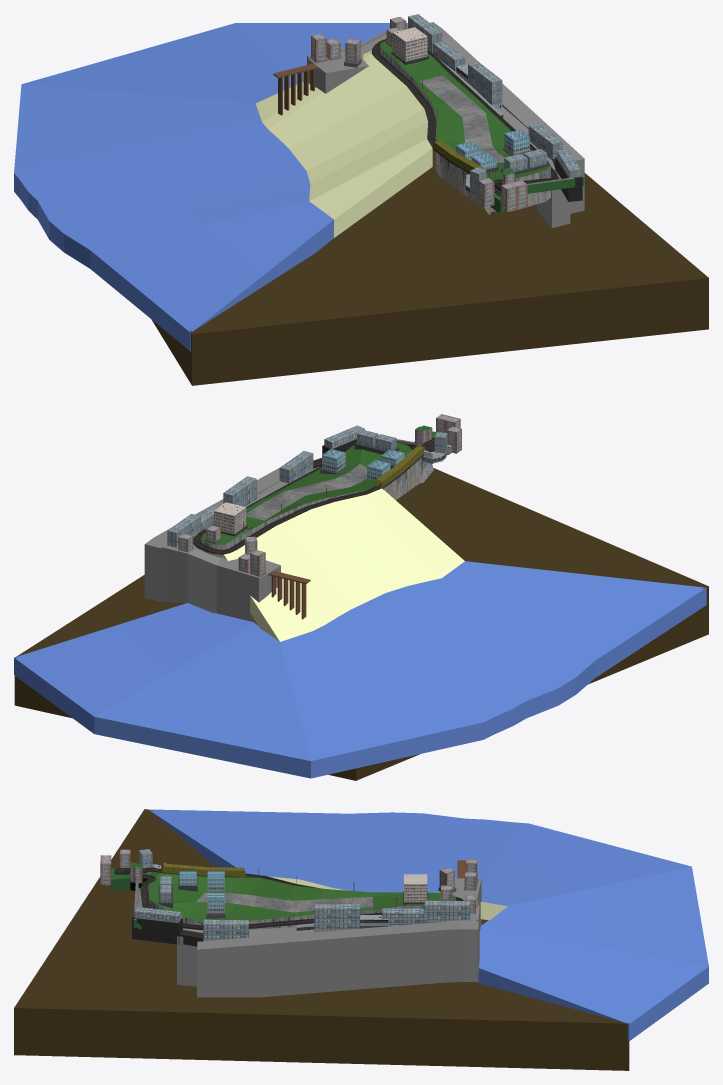
Rendered from roadagetrack.fbx.
The picture shows the model from 3 angles, top to bottom: view 1: azimuth 30°, elevation 25°; view 2: azimuth 150°, elevation 25°; view 3: azimuth 270°, elevation 25°; orthographic projection. The views are drawn at different scales.
Parts seen in each view (by area): view 1: Cube.033, Cube.001, Cube; view 2: Cube.033, Cube.001, Cube; view 3: Cube.033, Cube.001, Cube.
Part boxes in pixels (x1,y1,x2,y2): Cube.033: (14, 14, 584, 351); Cube.001: (151, 23, 708, 385); Cube: (371, 39, 558, 196); Cube.033: (14, 414, 706, 778); Cube.001: (14, 468, 708, 780); Cube: (193, 437, 434, 554); Cube.033: (100, 809, 708, 1041); Cube.001: (14, 809, 629, 1070); Cube: (114, 863, 463, 930).
Bounding box in the file's own units: 80773 × 24619 × 110293.
